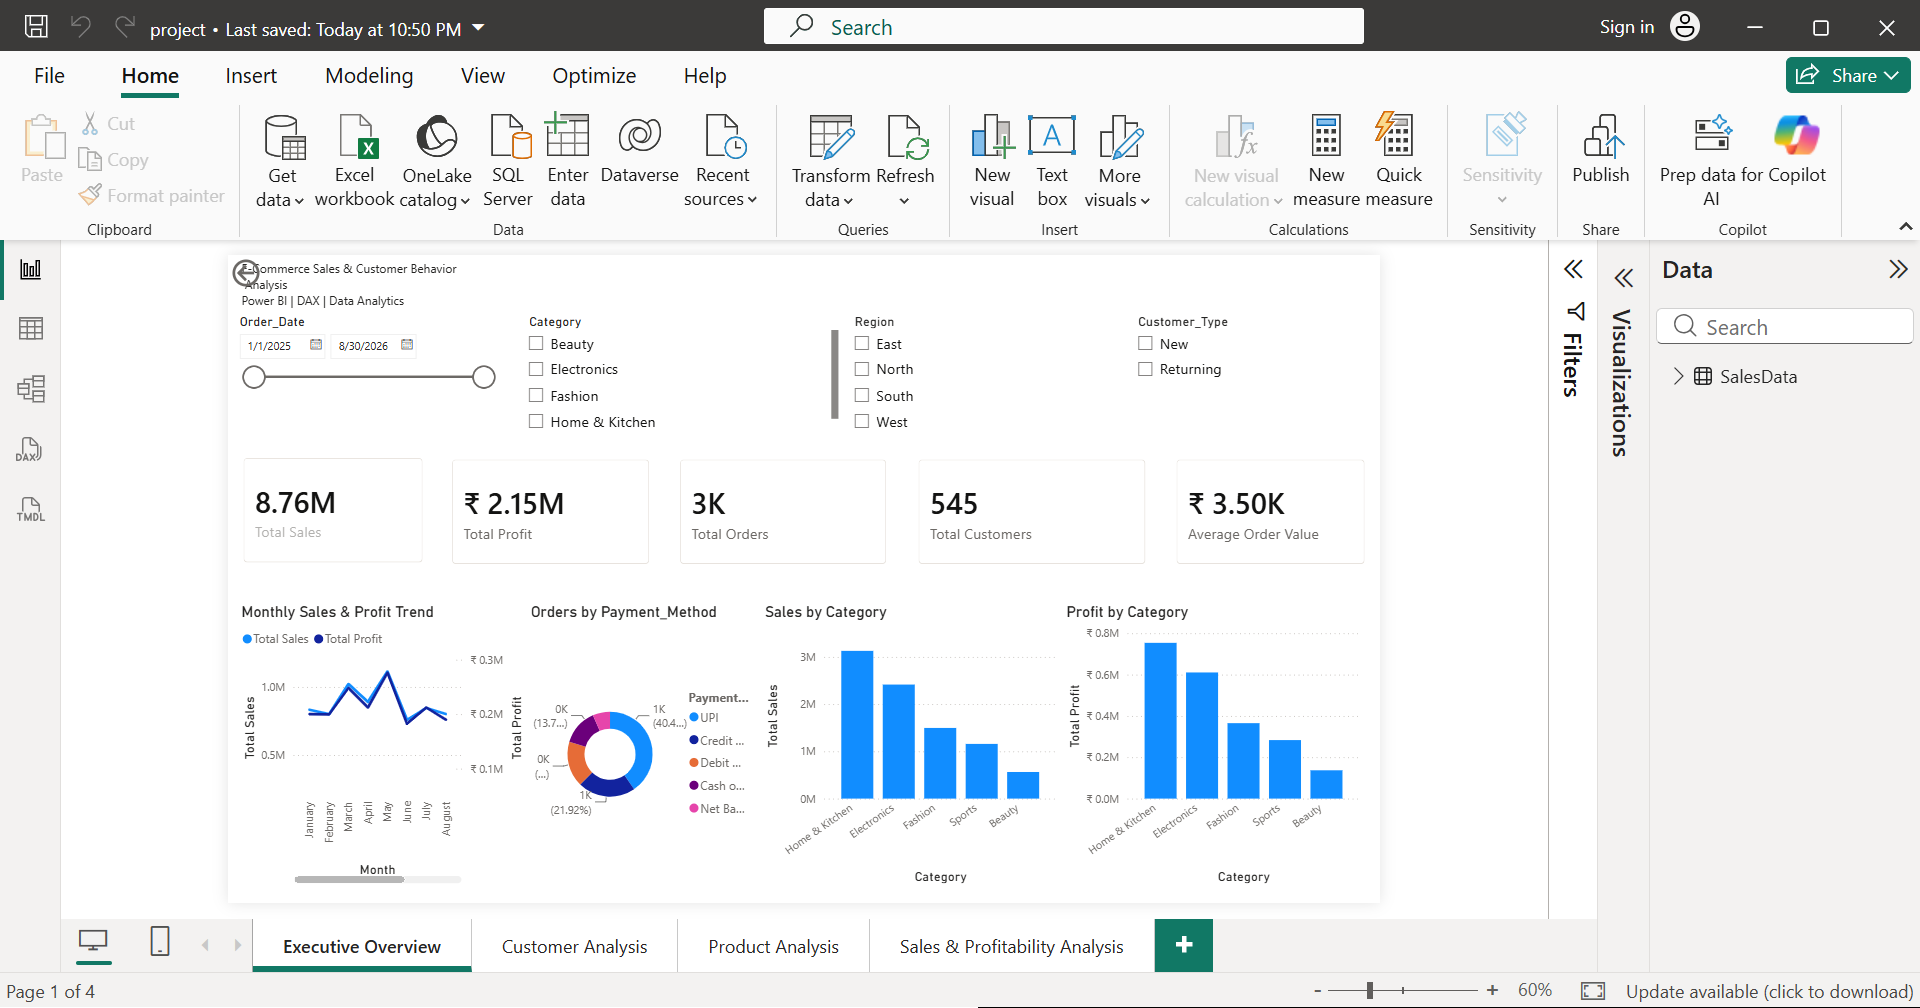

This screenshot's page, from the dashboard's own definition file:
{"tool":"powerbi","page":{"name":"Executive Overview","canvas":[1280,720],"ordinal":0},"visuals":[{"type":"textbox","box":[10,0,475.6,85.6],"z":0},{"type":"slicer","fields":{"Values":["SalesData.Order_Date"]},"box":[0,60,305,150],"z":1000},{"type":"actionButton","box":[0,0,100,40],"z":2000},{"type":"slicer","fields":{"Values":["SalesData.Category"]},"box":[321.7,60,361.7,148.3],"z":3000},{"type":"slicer","fields":{"Values":["SalesData.Region"]},"box":[683.3,60,315,148.3],"z":4000},{"type":"slicer","fields":{"Values":["SalesData.Customer_Type"]},"box":[998.3,60,281.7,150],"z":5000},{"type":"cardVisual","fields":{"Data":["SalesData.Total Sales"]},"box":[0,208.3,233.3,150],"z":6000},{"type":"cardVisual","fields":{"Data":["SalesData.Total Profit"]},"box":[231.7,210,253.3,150],"z":7000},{"type":"cardVisual","fields":{"Data":["SalesData.Total Orders"]},"box":[485,210,263.3,150],"z":8000},{"type":"cardVisual","fields":{"Data":["SalesData.Total Customers"]},"box":[750,210,286.7,150],"z":9000},{"type":"cardVisual","fields":{"Data":["SalesData.Average Order Value"]},"box":[1036.7,210,243.3,150],"z":10000},{"type":"lineChart","title":"Monthly Sales & Profit Trend","fields":{"Category":["SalesData.Order_Date.Variation.Date Hierarchy.Month"],"Y":["SalesData.Total Sales"],"Y2":["SalesData.Total Profit"]},"box":[10,386,322,316],"z":11000},{"type":"clusteredColumnChart","title":" Sales by Category","fields":{"Category":["SalesData.Category"],"Y":["SalesData.Total Sales"]},"box":[592,386,334,316],"z":12000},{"type":"clusteredColumnChart","title":"Profit by Category","fields":{"Category":["SalesData.Category"],"Y":["SalesData.Total Profit"]},"box":[926,386,336,316],"z":14000},{"type":"donutChart","title":"Orders by Payment_Method","fields":{"Category":["SalesData.Payment_Method"],"Y":["SalesData.Total Orders"]},"box":[332,386,260,316],"z":15000}]}

Visuals, with their boxes on the page's 1280x720 design canvas (x1, y1, x2, y2). These are canvas units, not pixel positions in the 1920x1008 screenshot, which may show the page scaled, cropped or inside an application window:
textbox: left=10, top=0, right=486, bottom=86
slicer - SalesData.Order_Date: left=0, top=60, right=305, bottom=210
actionButton: left=0, top=0, right=100, bottom=40
slicer - SalesData.Category: left=322, top=60, right=683, bottom=208
slicer - SalesData.Region: left=683, top=60, right=998, bottom=208
slicer - SalesData.Customer_Type: left=998, top=60, right=1280, bottom=210
cardVisual - SalesData.Total Sales: left=0, top=208, right=233, bottom=358
cardVisual - SalesData.Total Profit: left=232, top=210, right=485, bottom=360
cardVisual - SalesData.Total Orders: left=485, top=210, right=748, bottom=360
cardVisual - SalesData.Total Customers: left=750, top=210, right=1037, bottom=360
cardVisual - SalesData.Average Order Value: left=1037, top=210, right=1280, bottom=360
"Monthly Sales & Profit Trend" lineChart: left=10, top=386, right=332, bottom=702
" Sales by Category" clusteredColumnChart: left=592, top=386, right=926, bottom=702
"Profit by Category" clusteredColumnChart: left=926, top=386, right=1262, bottom=702
"Orders by Payment_Method" donutChart: left=332, top=386, right=592, bottom=702
